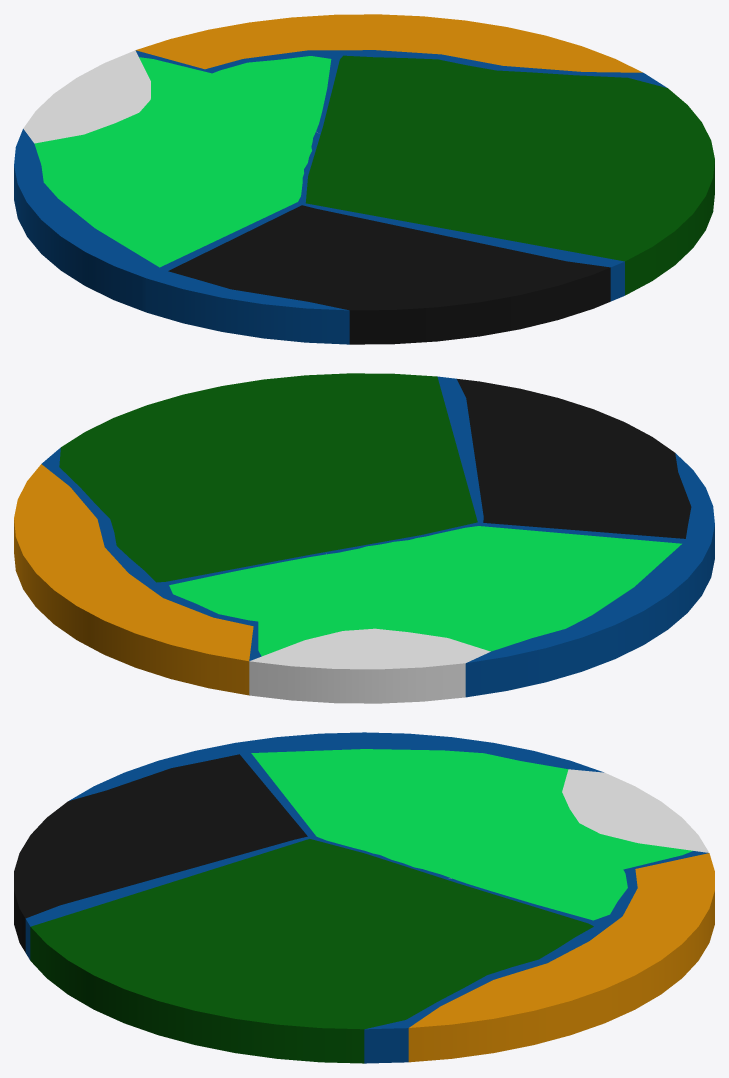
File: MOD_Global_Greenhouse.fbx
The picture shows the model from 3 angles, top to bottom: view 1: azimuth 30°, elevation 25°; view 2: azimuth 150°, elevation 25°; view 3: azimuth 270°, elevation 25°; orthographic projection.
Visible parts, largest first — view 1: Sector_jungle, Sector_forest, Sector_base, Sector_river, Sector_mountain, Sector_laboratory; view 2: Sector_jungle, Sector_forest, Sector_base, Sector_mountain, Sector_river, Sector_laboratory; view 3: Sector_jungle, Sector_forest, Sector_mountain, Sector_base, Sector_river, Sector_laboratory.
Boxes of the visible parts, box(x1,y1,x2,y2) form: Sector_jungle: box(305, 55, 714, 295); Sector_forest: box(34, 56, 331, 267); Sector_base: box(168, 205, 610, 344); Sector_river: box(14, 50, 666, 344); Sector_mountain: box(136, 14, 642, 72); Sector_laboratory: box(23, 50, 150, 143); Sector_jungle: box(59, 373, 477, 582); Sector_forest: box(169, 526, 681, 656); Sector_base: box(457, 379, 691, 538); Sector_mountain: box(14, 464, 253, 695); Sector_river: box(41, 376, 714, 697); Sector_laboratory: box(249, 628, 490, 703); Sector_jungle: box(30, 839, 593, 1063); Sector_forest: box(251, 749, 692, 920); Sector_mountain: box(408, 853, 714, 1062); Sector_base: box(14, 754, 307, 952); Sector_river: box(25, 732, 708, 1063); Sector_laboratory: box(562, 769, 708, 852).
Size of the model in its own units: 50000 by 2692 by 49901.
